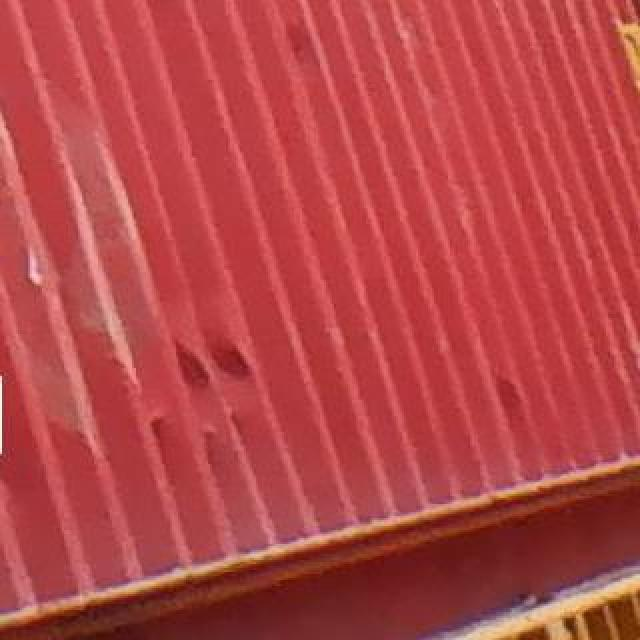dent: (161, 295, 285, 427)
